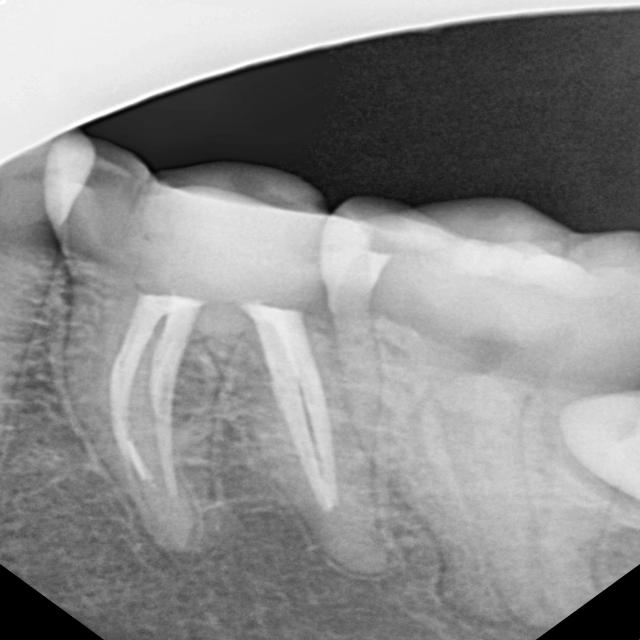RCT: (76, 400, 364, 533)
